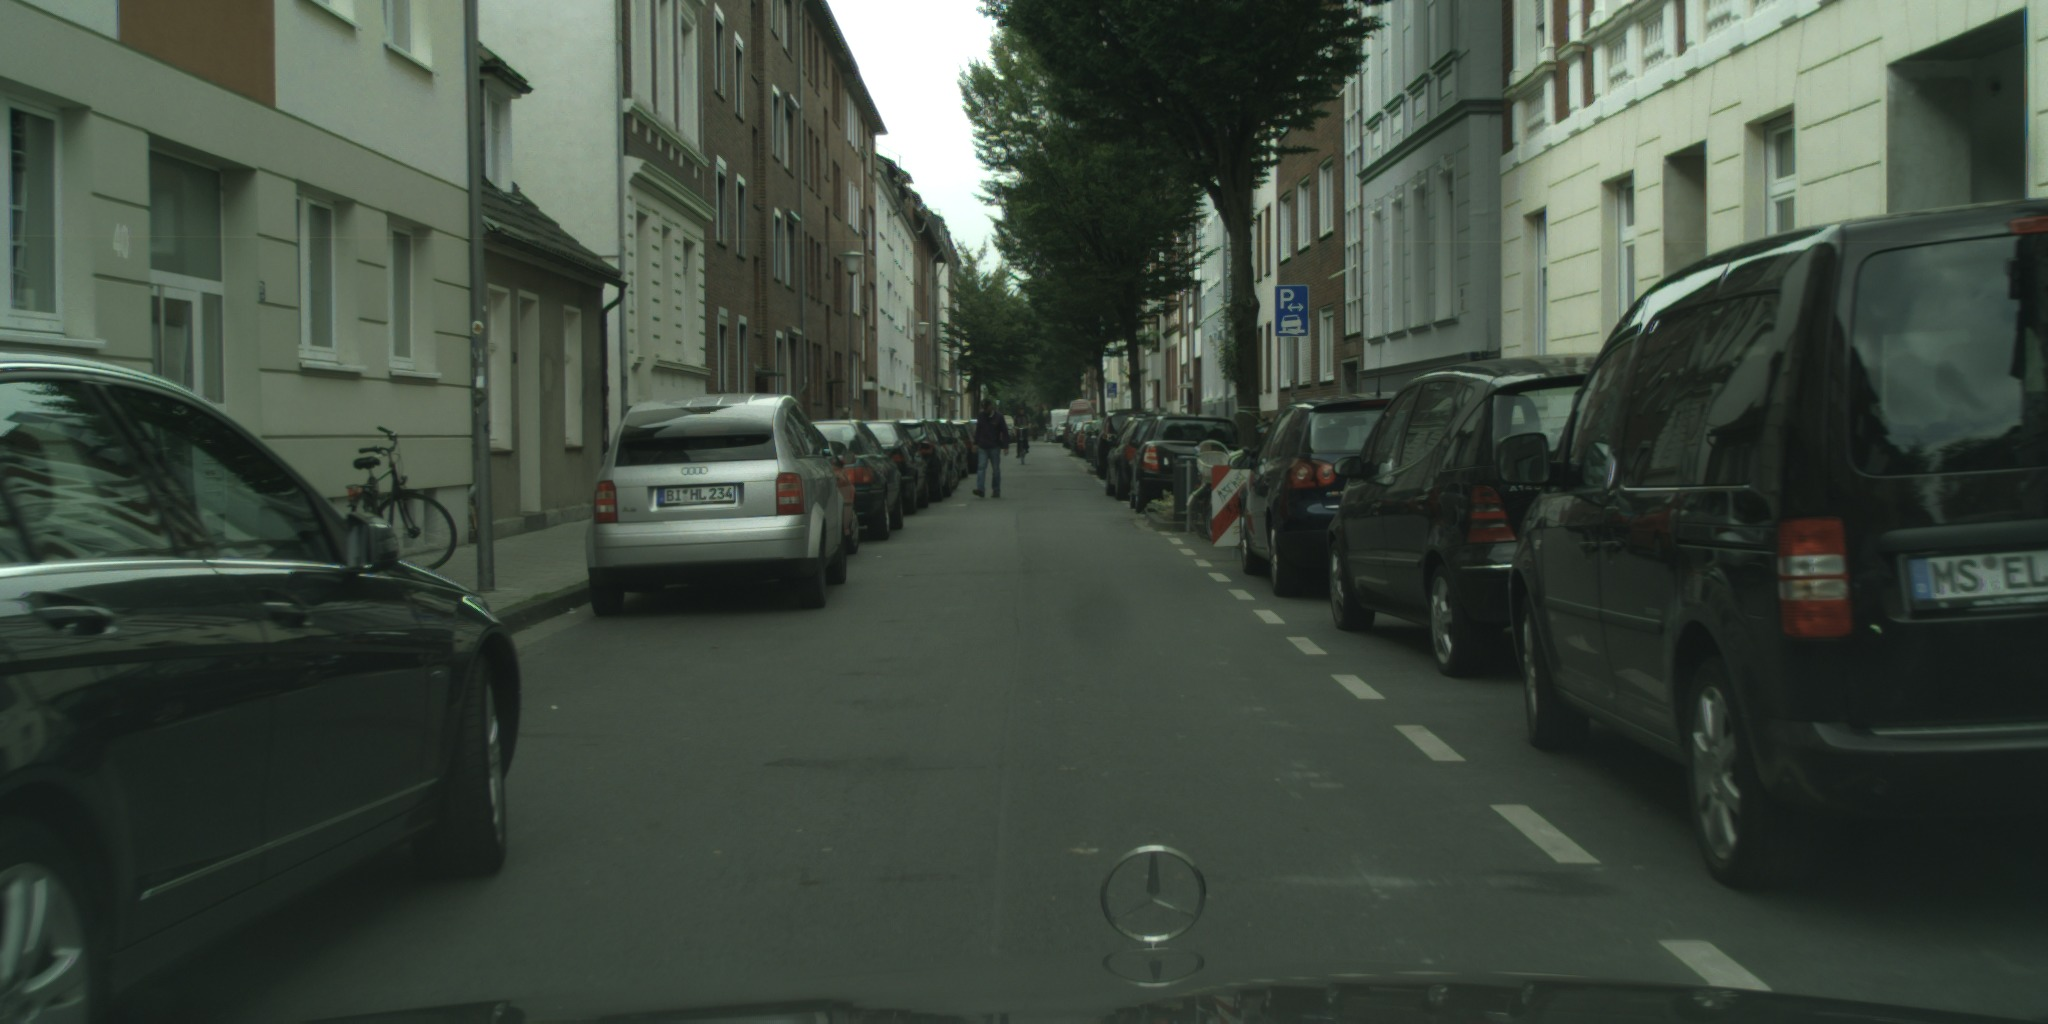bicycle: (346, 423, 458, 575), (1192, 418, 1284, 540), (1013, 425, 1032, 466)
car: (1496, 197, 2048, 893), (0, 353, 523, 1024), (1324, 352, 1614, 678), (585, 393, 849, 618), (1228, 393, 1412, 601), (802, 420, 904, 540), (1128, 412, 1241, 514), (795, 414, 861, 558), (859, 420, 931, 517), (884, 420, 953, 503), (1093, 409, 1162, 481), (1105, 415, 1161, 503), (907, 419, 960, 495), (928, 420, 970, 479), (943, 420, 979, 474), (1062, 401, 1096, 450), (1083, 420, 1107, 464), (958, 418, 986, 454), (1067, 421, 1089, 452), (1075, 420, 1092, 458), (1054, 420, 1075, 444), (1001, 416, 1015, 445)
person: (971, 399, 1008, 499), (836, 405, 852, 425)
rider: (1015, 404, 1030, 459)
